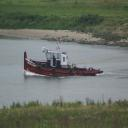tugboat: (24, 47, 105, 81)
